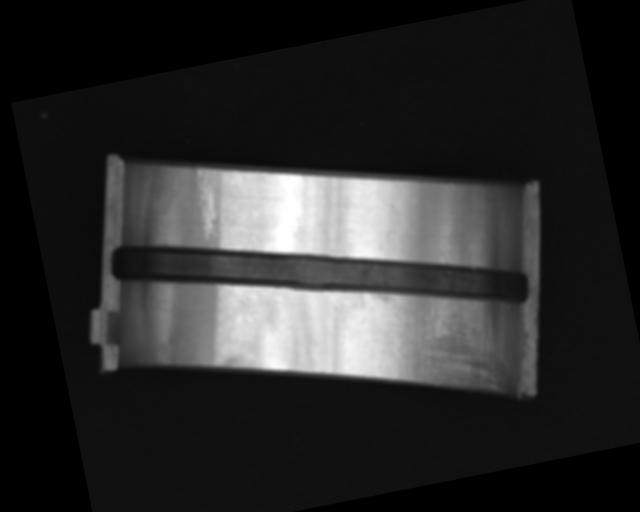gap: (107, 170, 530, 380)
nick: (188, 162, 223, 241)
scratch: (373, 270, 514, 413)
